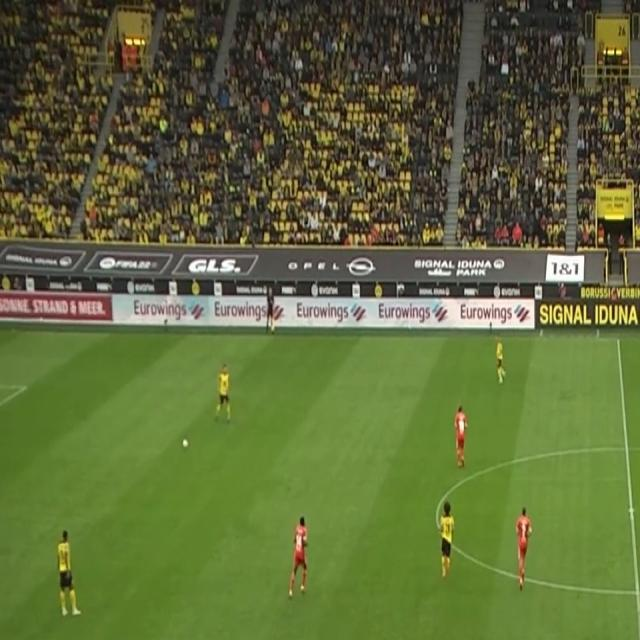ball: (182, 437, 190, 451)
